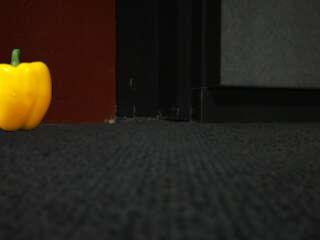Capsicum: (0, 47, 53, 133)
